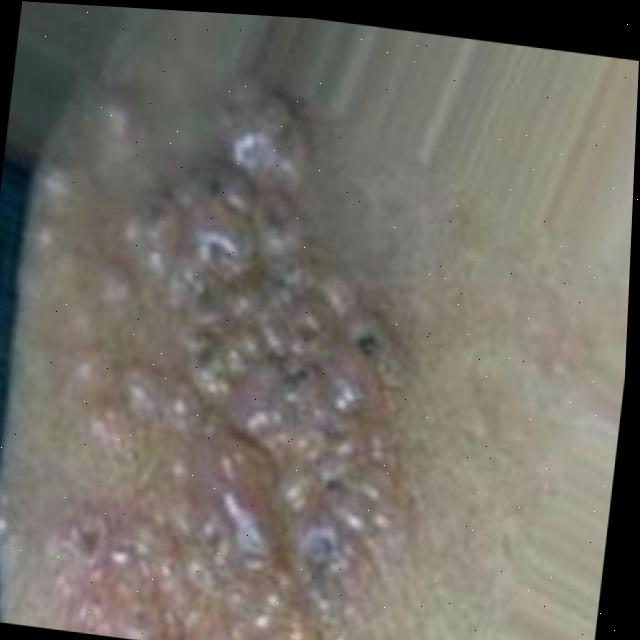Shingles: (0, 97, 436, 640)
